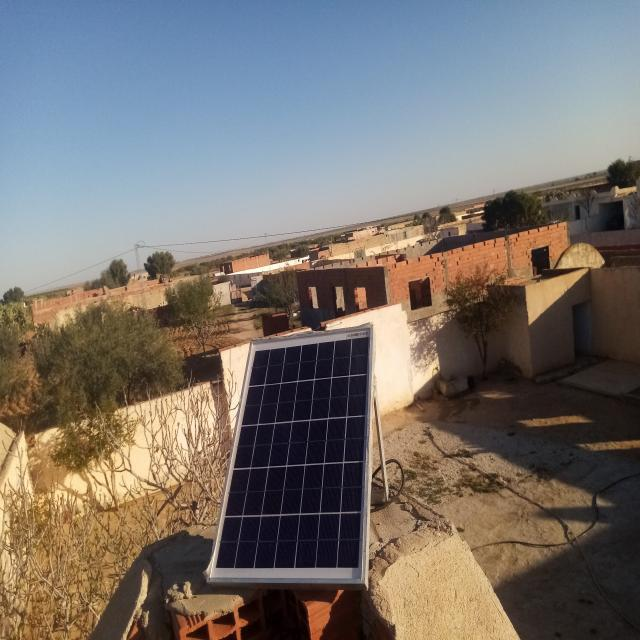no faulty: (211, 326, 371, 581)
